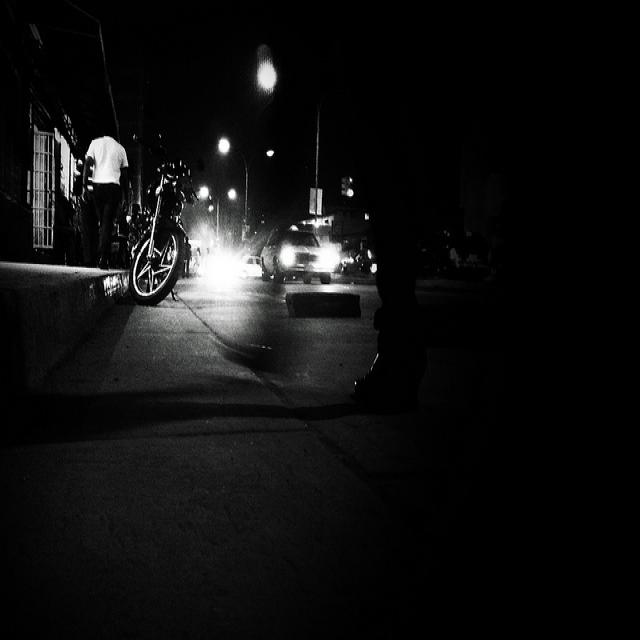Car: (248, 212, 340, 323)
Motorbike: (126, 154, 208, 352)
